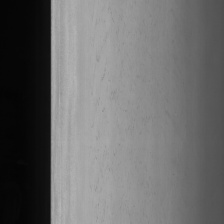silk_spot: (93, 17, 153, 170)
